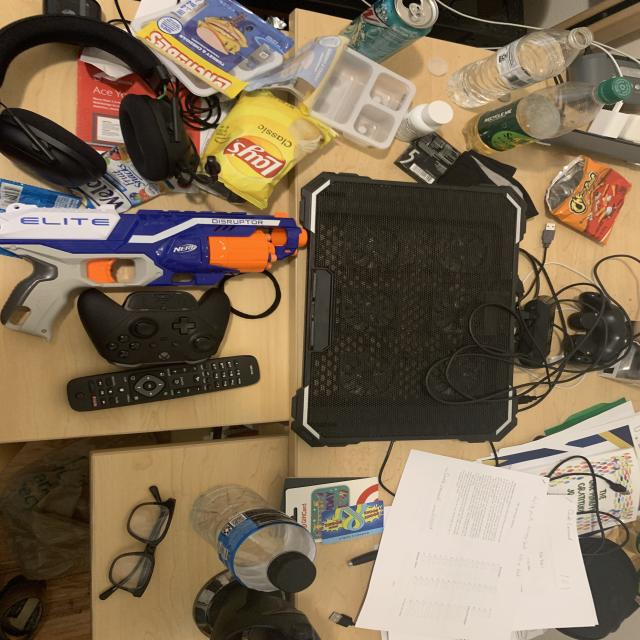nerf-maverik: (0, 184, 320, 348)
